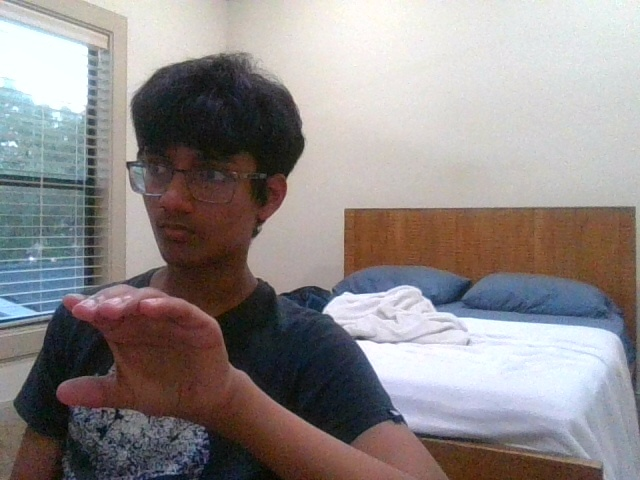no: (57, 284, 229, 421)
